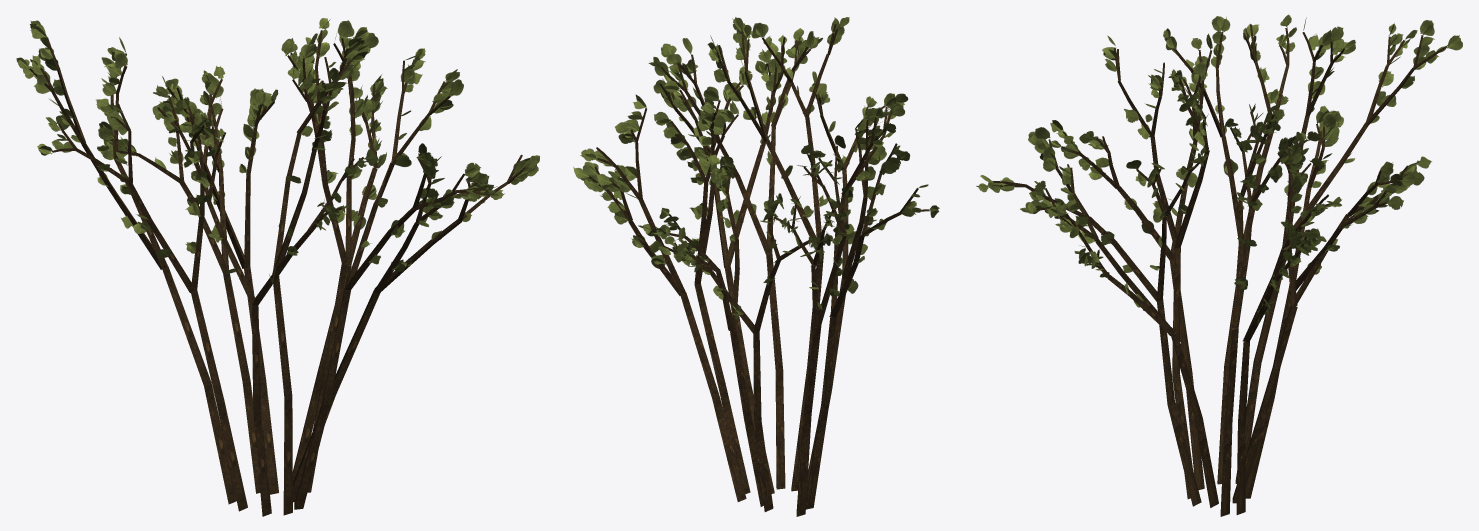
The model's file is hazel_coppice_v02_LOD1.glb.
3 views of the same model, side by side, from view 1: azimuth 30°, elevation 25°; view 2: azimuth 150°, elevation 25°; view 3: azimuth 270°, elevation 25° (orthographic). The views are drawn at different scales.
Parts seen in each view (by area): view 1: hazel_coppice_v02_LOD1; view 2: hazel_coppice_v02_LOD1; view 3: hazel_coppice_v02_LOD1.
Part boxes in pixels (x1=…): hazel_coppice_v02_LOD1: x1=16, y1=18, x2=539, y2=516; hazel_coppice_v02_LOD1: x1=573, y1=17, x2=939, y2=516; hazel_coppice_v02_LOD1: x1=976, y1=14, x2=1462, y2=516.
Bounding box in the file's own units: 4.17 × 4.73 × 4.55.
2 materials, 2 textured.
